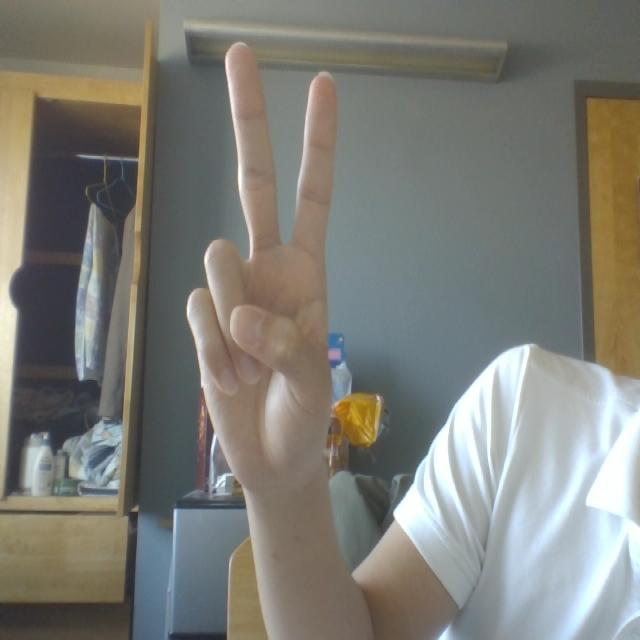V: (149, 22, 392, 493)
